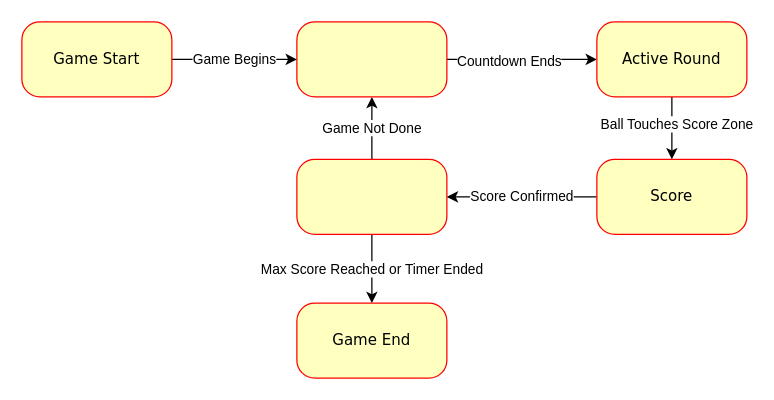
Some shapes in this 774 by 400 pixel diagram are drawn without their labels. The centre of each missing label's shape, as x and y in pixels:
"Celebration" belongs at (371,196).
"CountDown" belongs at (371,59).
